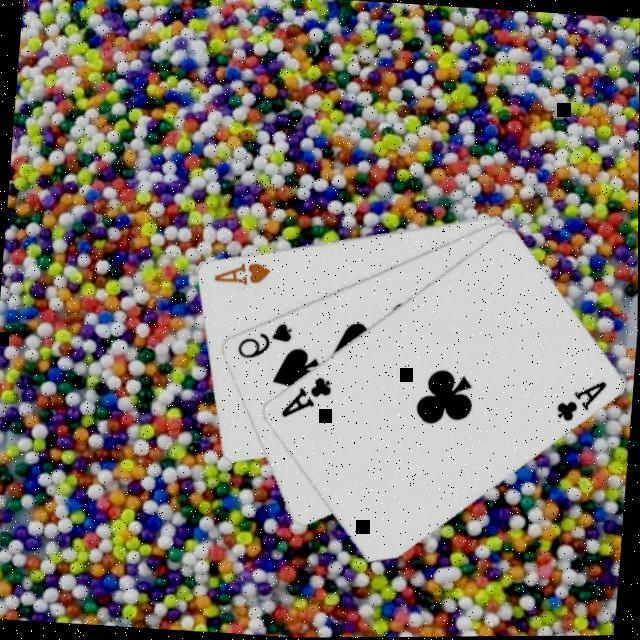9S: (234, 315, 297, 362)
AC: (552, 372, 610, 427), (278, 368, 336, 422)
AH: (210, 254, 274, 288)
